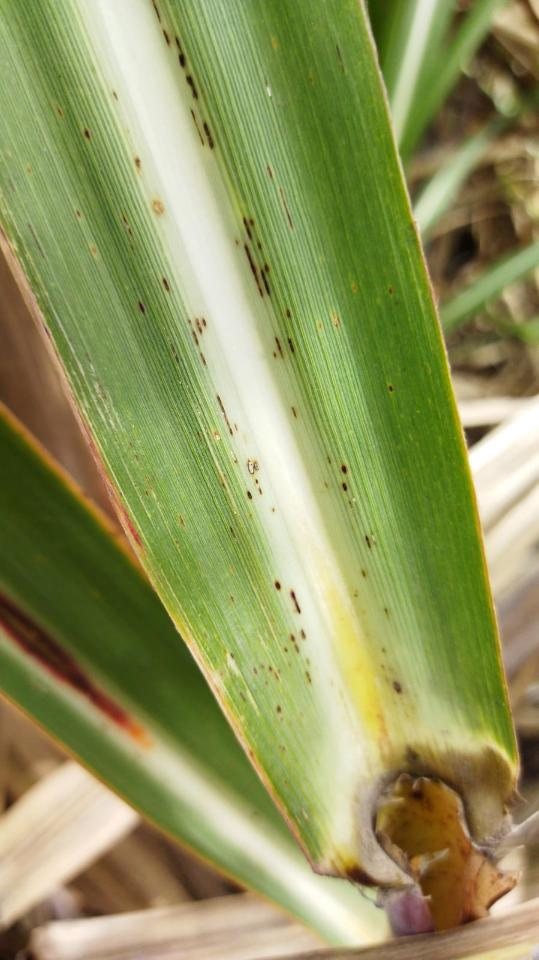Rust: (145, 0, 219, 153), (211, 387, 279, 515), (248, 572, 317, 690), (232, 211, 279, 303), (263, 163, 297, 236), (266, 306, 301, 362), (377, 645, 408, 698), (323, 450, 354, 496), (184, 315, 211, 365), (118, 212, 139, 242), (133, 297, 150, 319), (160, 273, 174, 297), (363, 531, 376, 554), (131, 154, 145, 175), (81, 125, 96, 144), (227, 522, 240, 543), (109, 85, 122, 105), (53, 102, 66, 121), (175, 510, 188, 529), (236, 689, 249, 706), (357, 565, 372, 579), (288, 406, 302, 420), (272, 703, 286, 717), (386, 284, 396, 298), (384, 605, 393, 620), (387, 384, 397, 397), (229, 650, 239, 662), (229, 593, 237, 607)
